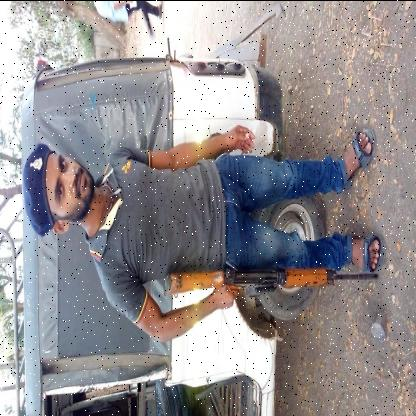rifle: (162, 262, 381, 299)
